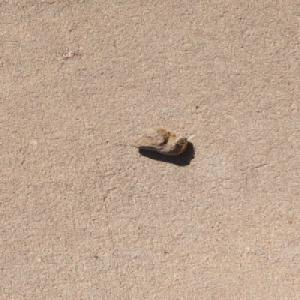Rock: (126, 126, 188, 155)
